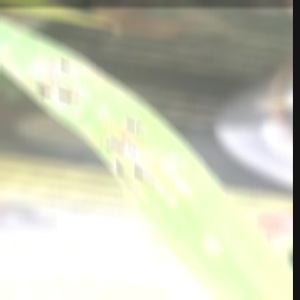Brown_Spot: (96, 161, 142, 201), (117, 108, 151, 141), (23, 78, 54, 112), (194, 236, 226, 265), (156, 147, 186, 172), (52, 81, 81, 104), (43, 54, 72, 75)
